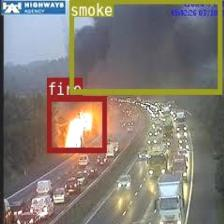fire: (46, 95, 106, 152)
smoke: (68, 0, 220, 93)
